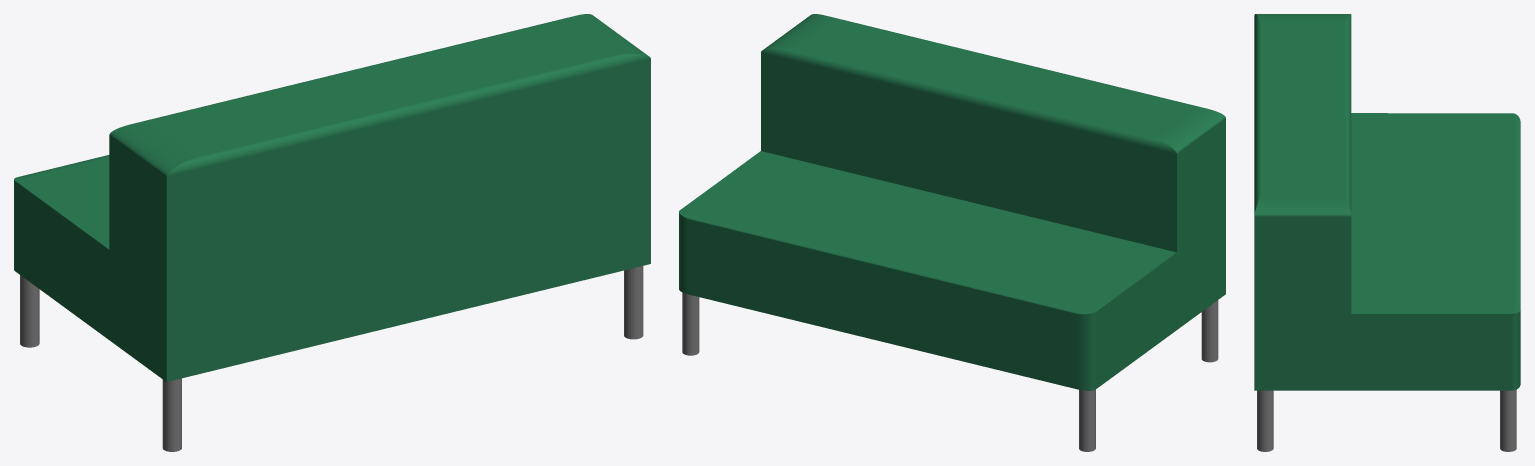
The model's file is Sofa.fbx.
The picture shows the model from 3 angles, left to right: view 1: azimuth 30°, elevation 25°; view 2: azimuth 150°, elevation 25°; view 3: azimuth 270°, elevation 25°; orthographic projection. The views are drawn at different scales.
Visible parts, largest first — view 1: Cube.001, Cube, Cylinder, Cylinder.002, Cylinder.001; view 2: Cube, Cube.001, Cylinder.003, Cylinder.001, Cylinder; view 3: Cube, Cube.001, Cylinder.003, Cylinder.002.
Boxes of the visible parts, x1,y1,x2,y2 form: Cube.001: (109,14,650,294); Cube: (14,155,650,381); Cylinder: (162,378,181,451); Cylinder.002: (624,266,643,339); Cylinder.001: (20,275,39,347); Cube: (679,151,1225,390); Cube.001: (761,14,1225,252); Cylinder.003: (682,292,699,355); Cylinder.001: (1079,389,1095,451); Cylinder: (1201,300,1218,362); Cube: (1254,113,1520,390); Cube.001: (1254,14,1351,316); Cylinder.003: (1500,389,1516,451); Cylinder.002: (1257,390,1273,451).
Size of the model in its own units: 800 by 453 by 448.
